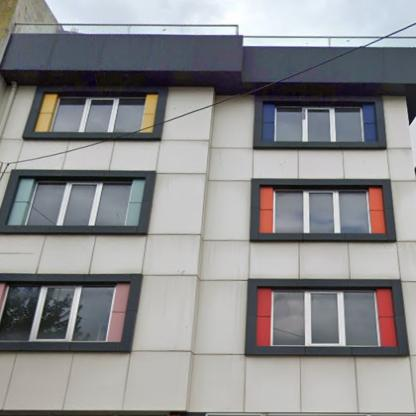window: (0, 284, 118, 342), (270, 290, 378, 346), (23, 180, 131, 224), (273, 190, 370, 232), (50, 96, 144, 131), (275, 106, 362, 142)
